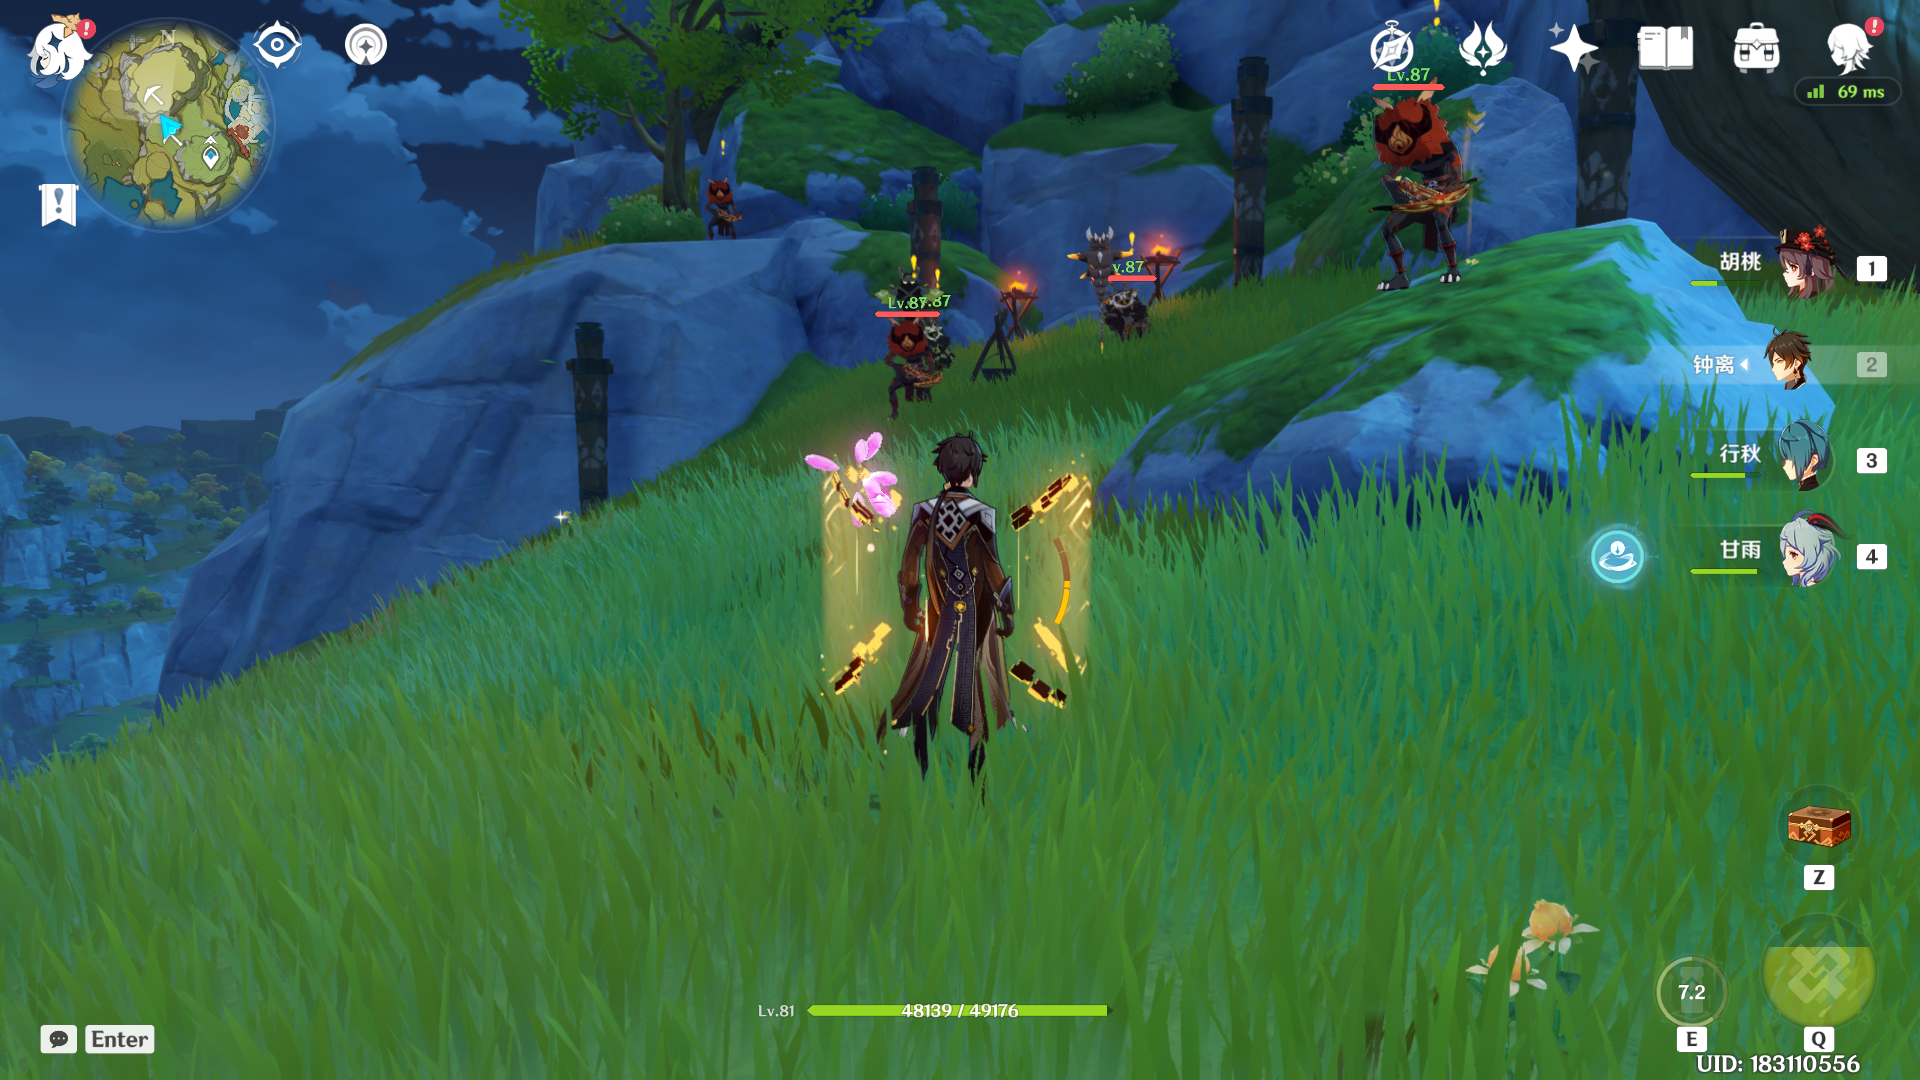character: (836, 402, 1116, 798)
hili: (1323, 84, 1518, 331), (836, 277, 955, 425), (1069, 262, 1175, 357), (679, 164, 773, 247)
